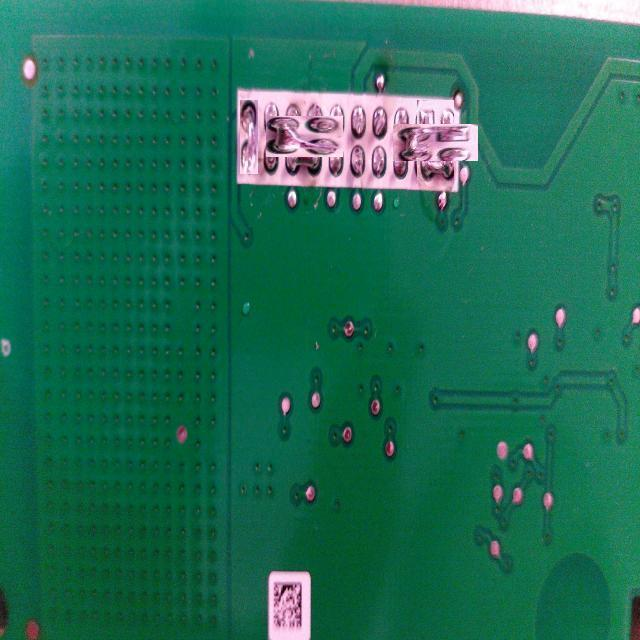Short_circuit: (405, 112, 466, 174), (275, 107, 334, 167), (240, 100, 258, 174)
